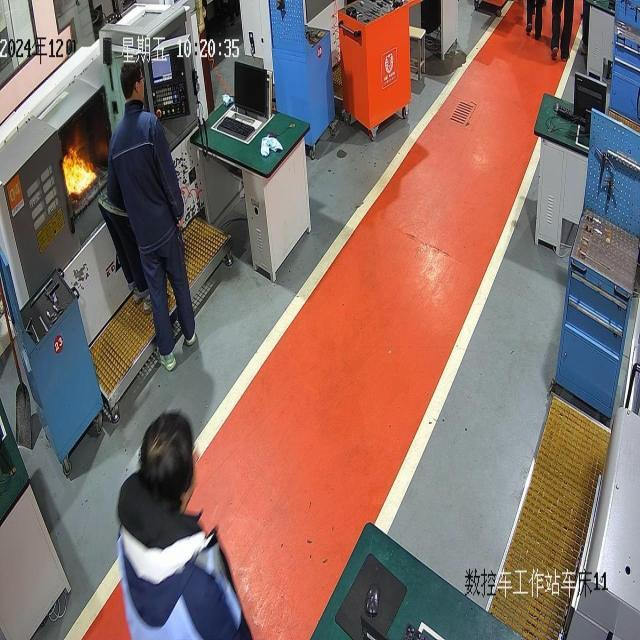smoke: (60, 140, 96, 199)
